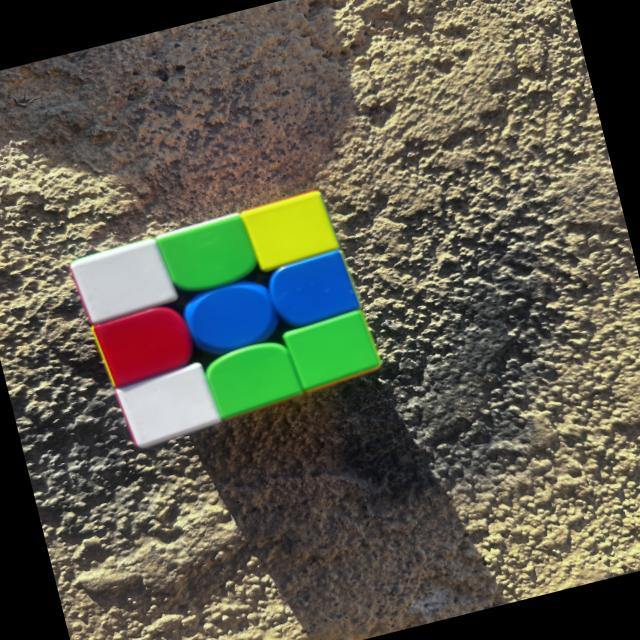sticker: (111, 358, 226, 453), (89, 300, 201, 393), (154, 210, 264, 300), (201, 334, 307, 422), (178, 274, 284, 362), (239, 188, 343, 276), (281, 308, 384, 396), (263, 248, 362, 332), (80, 245, 170, 316)
